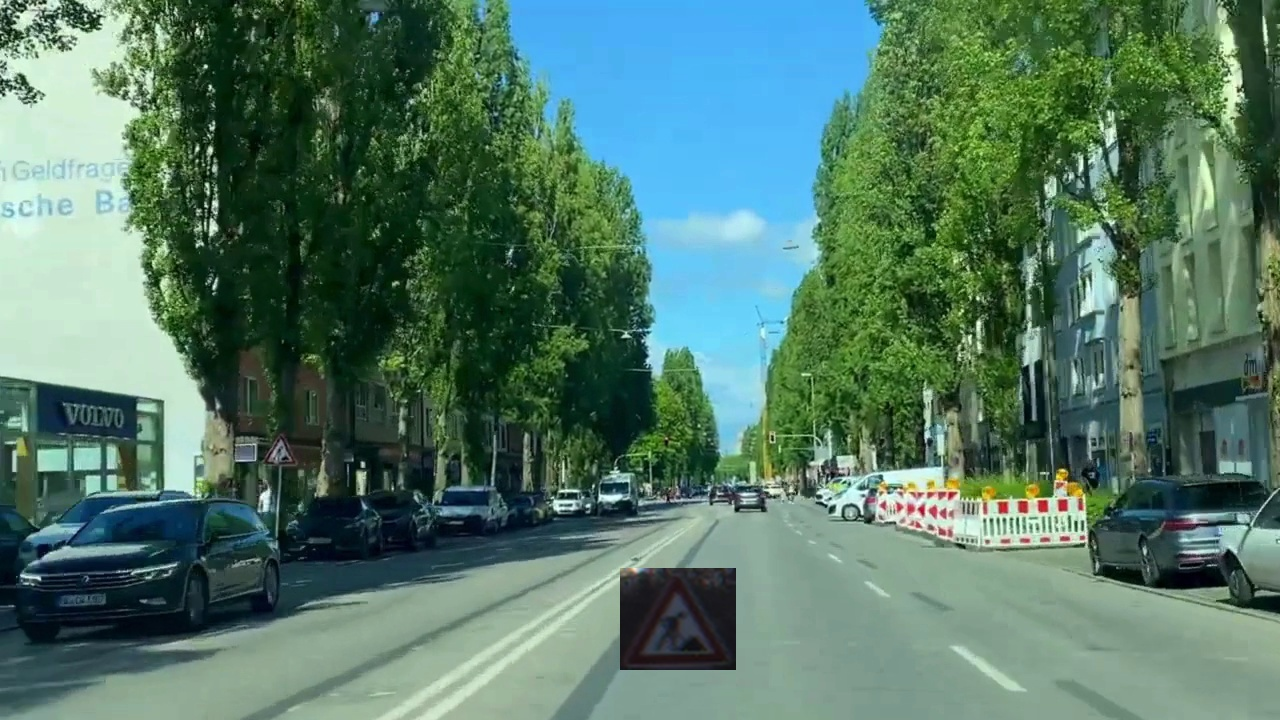Road work: (620, 568, 736, 670)
